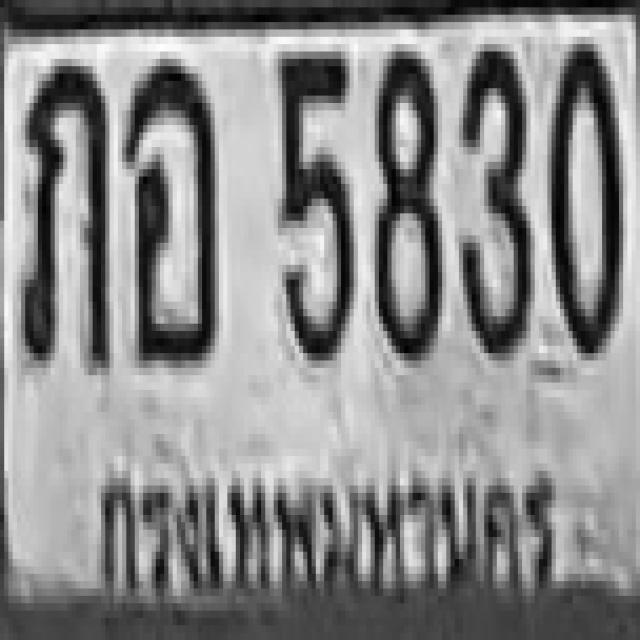0: (547, 37, 619, 353)
3: (457, 37, 528, 353)
5: (274, 44, 349, 353)
8: (370, 44, 438, 353)
A32: (17, 59, 109, 360)
A43: (122, 55, 215, 357)
BKK: (85, 452, 572, 630)
